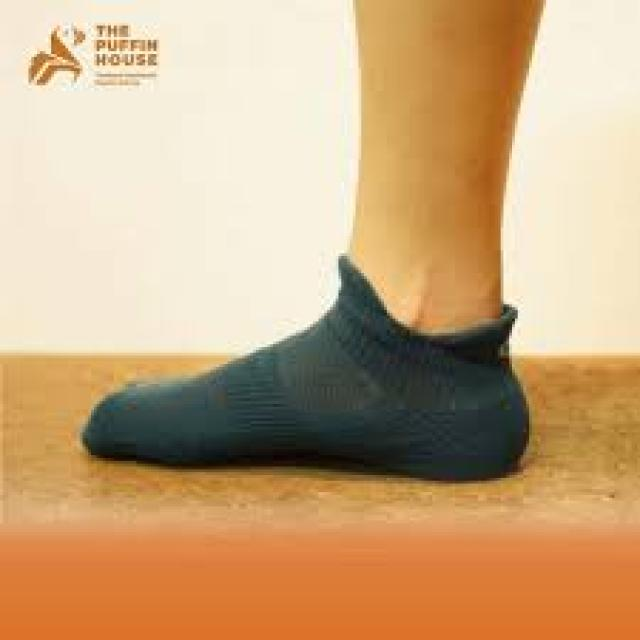sock: (80, 250, 529, 481)
